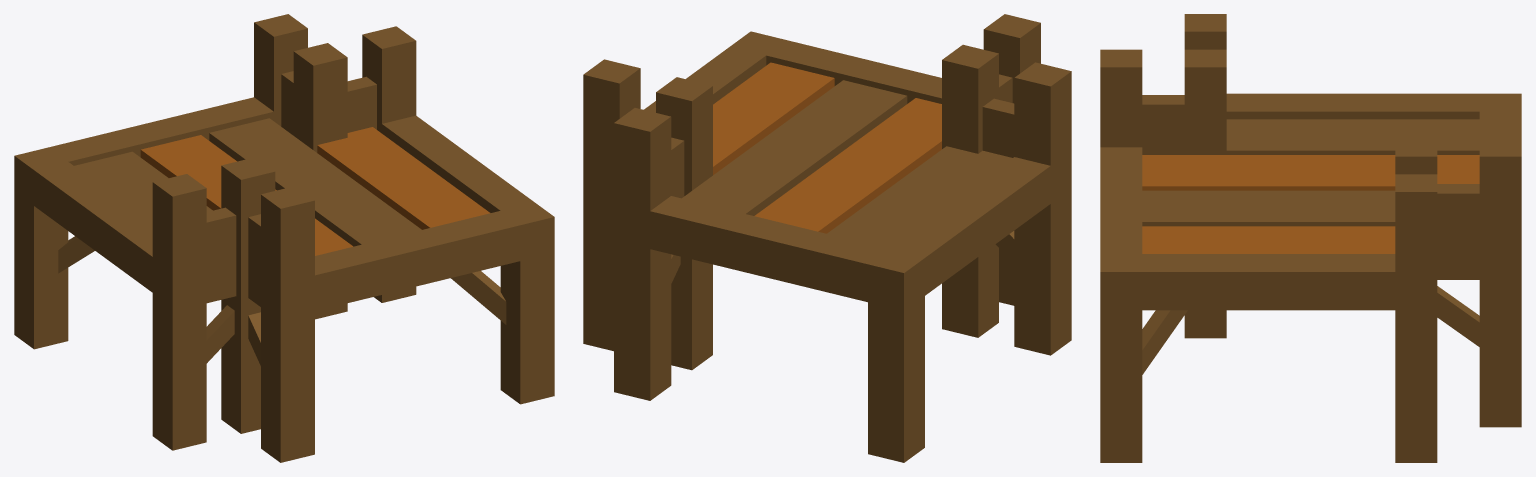
File: FourWayHalfFilled.fbx
The picture shows the model from 3 angles, left to right: view 1: azimuth 30°, elevation 25°; view 2: azimuth 150°, elevation 25°; view 3: azimuth 270°, elevation 25°; orthographic projection. The views are drawn at different scales.
Parts seen in each view (by area): view 1: Bridge - Four-Way Half Filled; view 2: Bridge - Four-Way Half Filled; view 3: Bridge - Four-Way Half Filled.
Boxes of the visible parts, <box> form: Bridge - Four-Way Half Filled: <box>14,14,554,462</box>; Bridge - Four-Way Half Filled: <box>583,14,1071,462</box>; Bridge - Four-Way Half Filled: <box>1100,14,1521,462</box>.
Size of the model in its own units: 100 by 70.89 by 100.
